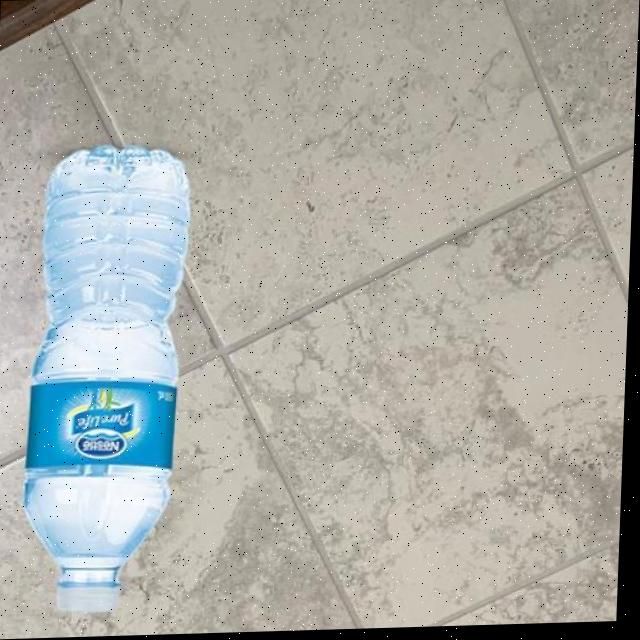bottle: (21, 144, 195, 617)
